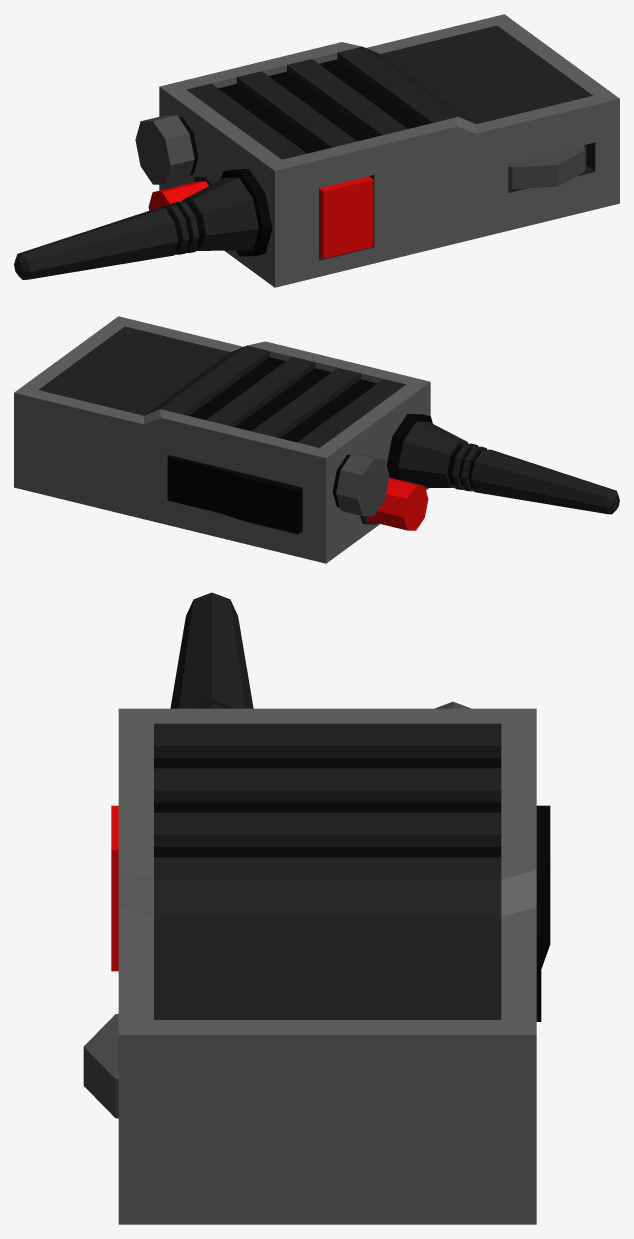
Rendered from TalkieWalkie.fbx.
The picture shows the model from 3 angles, top to bottom: view 1: azimuth 30°, elevation 25°; view 2: azimuth 150°, elevation 25°; view 3: azimuth 270°, elevation 25°; orthographic projection. The views are drawn at different scales.
Parts seen in each view (by area): view 1: TalkieWalkie; view 2: TalkieWalkie; view 3: TalkieWalkie.
Boxes of the visible parts, x1,y1,x2,y2 form: TalkieWalkie: [14, 14, 619, 287]; TalkieWalkie: [14, 316, 619, 563]; TalkieWalkie: [83, 592, 550, 1224].
Bounding box in the file's own units: 16.69 × 3.23 × 6.48.
